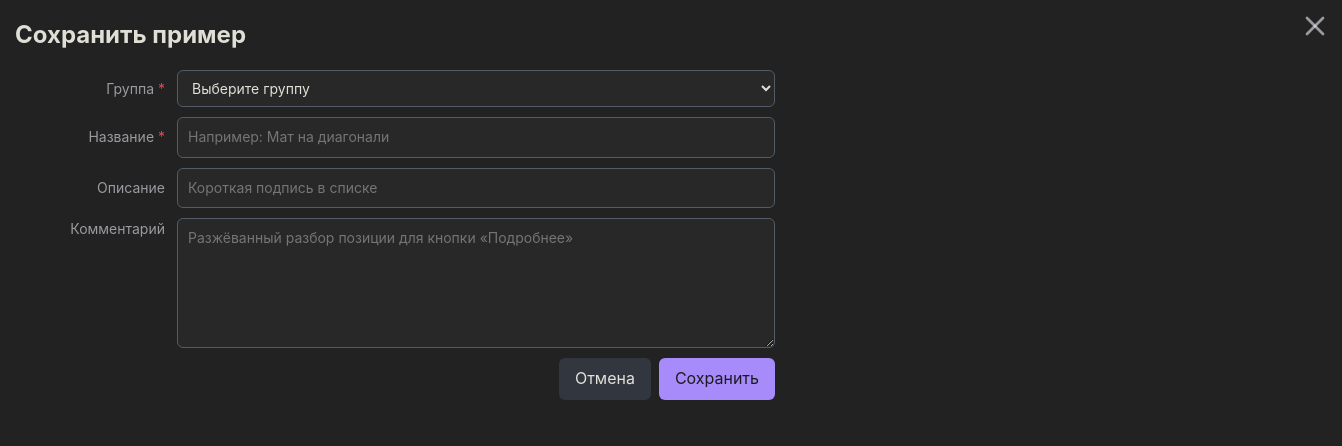
Test: SituationSaveOverlay › shows a backend error in the form
Select "Маты" in the dropdown at [476, 89], box x1=177 y1=70 x2=775 y2=107
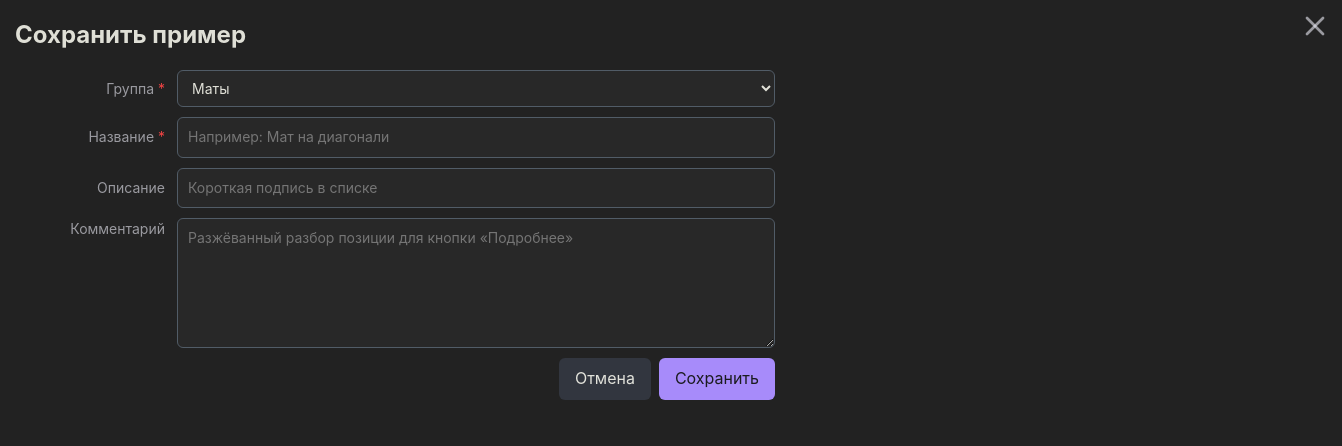
Type "Мат на диагонали" into the field labelled "Название" at [476, 138], box x1=177 y1=117 x2=775 y2=158
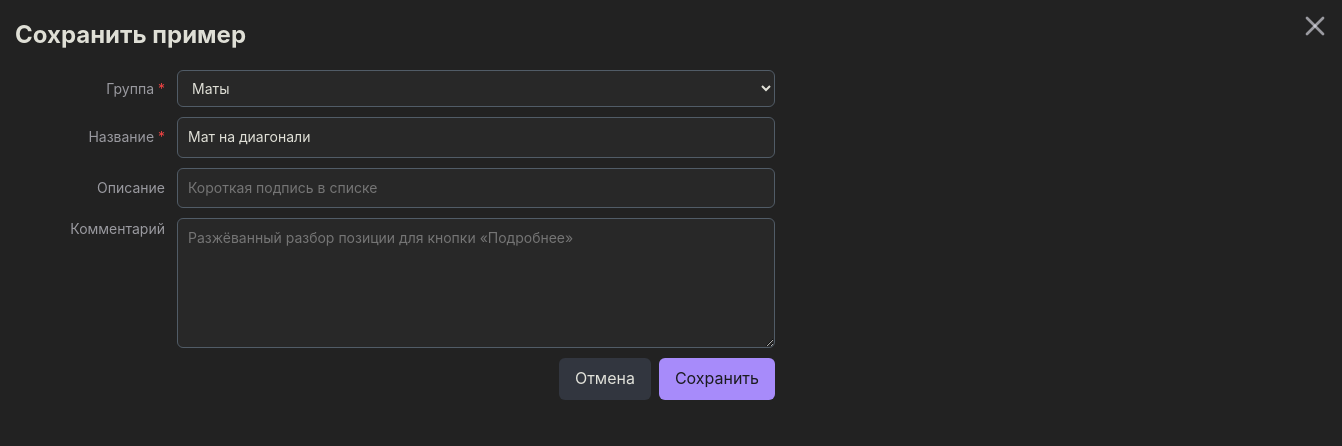
Click the button "Сохранить" at [717, 379], box x1=659 y1=358 x2=775 y2=400
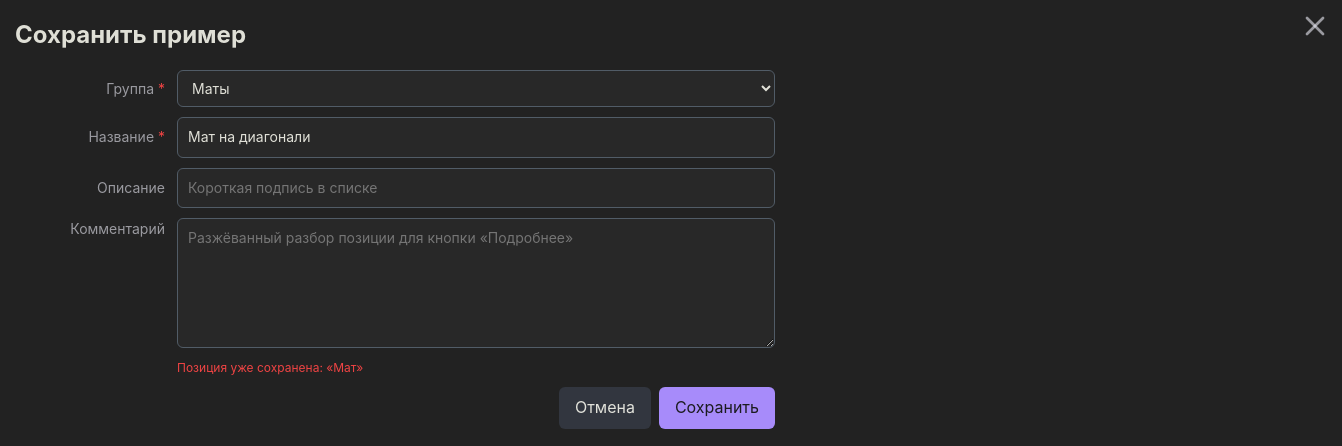
Check: the text "Позиция уже сохранена: «Мат»" is shown, box x1=177 y1=360 x2=363 y2=375
